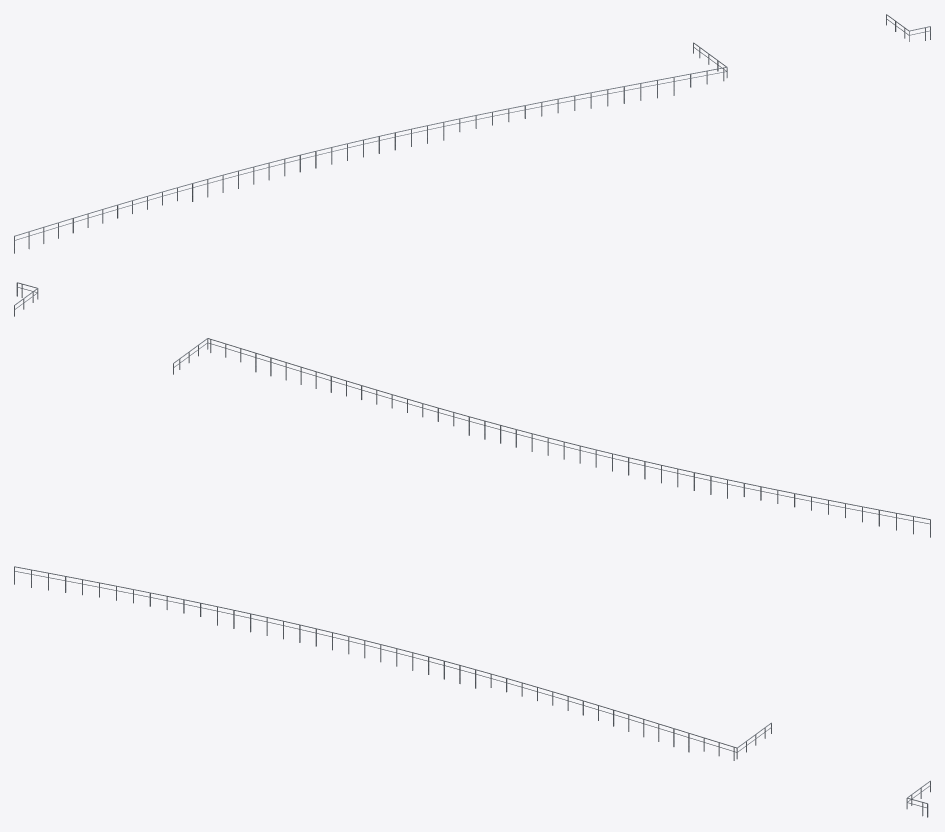
Rendered from quay_fence.fbx.
3 views of the same model, one above another, from view 1: azimuth 30°, elevation 25°; view 2: azimuth 150°, elevation 25°; view 3: azimuth 330°, elevation 25° (orthographic). The views are drawn at different scales.
Parts seen in each view (by area): view 1: quay_fence; view 2: quay_fence; view 3: quay_fence.
Part boxes in pixels (box(x1,y1,x2,y2)): quay_fence: box(14, 14, 930, 253); quay_fence: box(14, 282, 930, 537); quay_fence: box(14, 566, 930, 817).
Size of the model in its own units: 9198 by 183 by 758.
